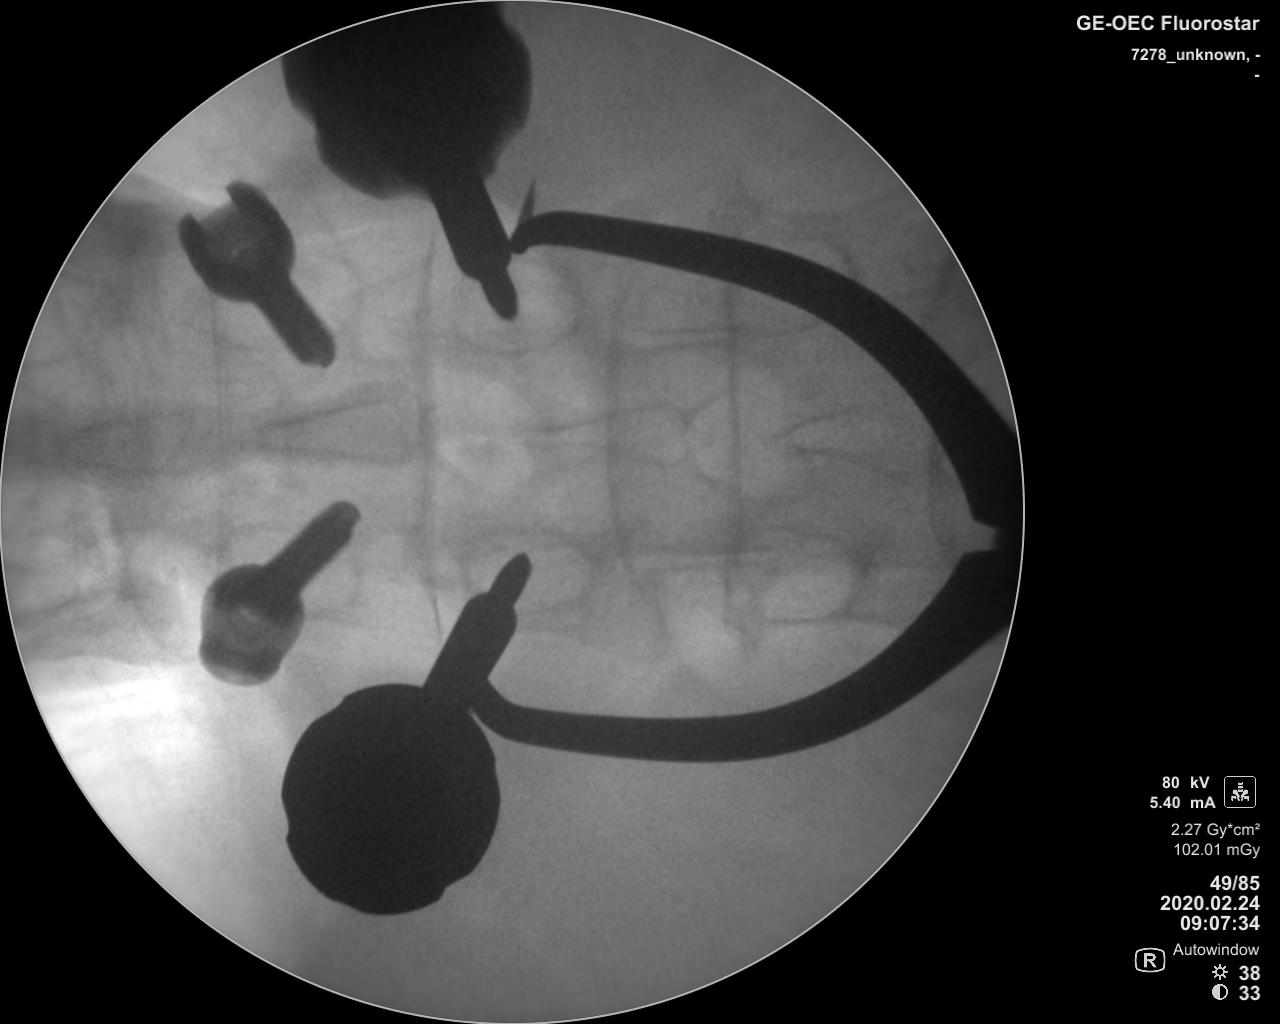eyes: (199, 250, 362, 344), (229, 523, 363, 616), (449, 263, 586, 346), (732, 532, 852, 622), (461, 530, 597, 608)
line: (413, 219, 442, 639), (604, 272, 633, 580), (194, 283, 225, 571), (716, 283, 743, 538)
nose: (38, 402, 250, 472), (509, 396, 691, 471), (248, 393, 417, 466), (768, 406, 928, 475)
